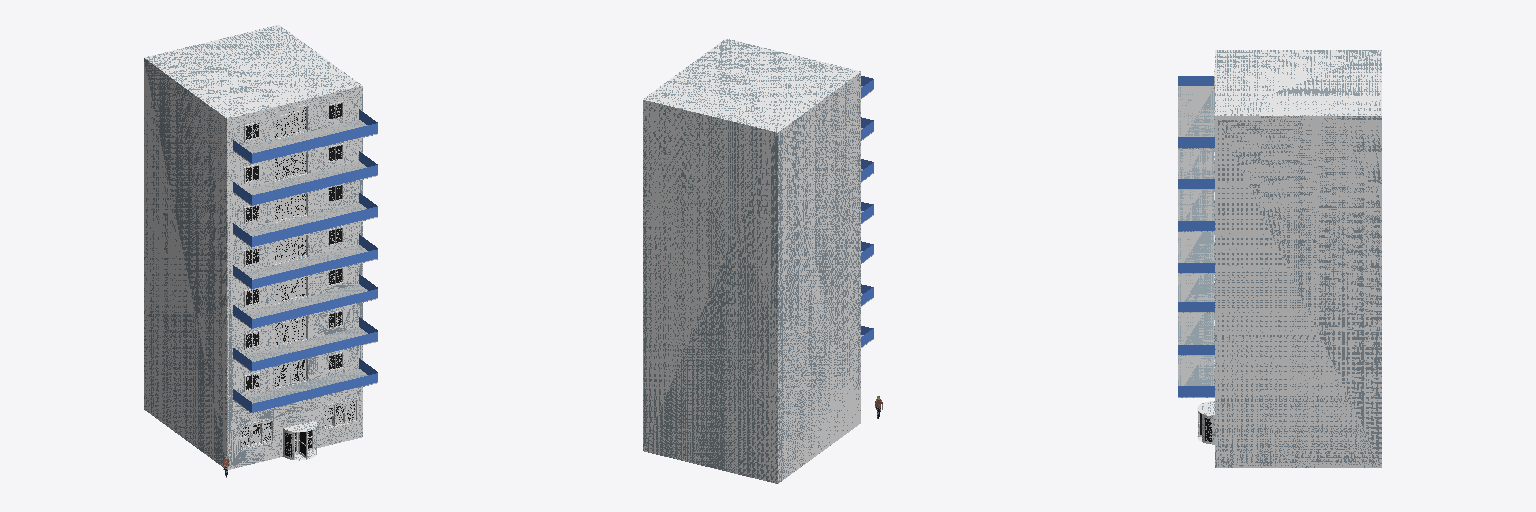
The picture shows the model from 3 angles: view 1: azimuth 30°, elevation 25°; view 2: azimuth 150°, elevation 25°; view 3: azimuth 270°, elevation 25°; orthographic projection.
Visible parts, largest first — view 1: Mesh136 building1 Model, Mesh38 Door_Glass_Double_Sidelights1 building1 Model, Mesh116 Window_3lite_8__6x5__4_1 building1 Model, Mesh123 Window_3lite_8__6x5__4_2 building1 Model, Mesh68 Door_Glass_Double_Sidelights6 building1 Model, Mesh56 Door_Glass_Double_Sidelights4 building1 Model, Mesh44 Door_Glass_Double_Sidelights2 building1 Model, Mesh50 Door_Glass_Double_Sidelights3 building1 Model, Mesh74 Door_Glass_Double_Sidelights7 building1 Model, Mesh31 DoorRevolving1 building1 Model, Mesh62 Door_Glass_Double_Sidelights5 building1 Model; view 2: Mesh136 building1 Model; view 3: Mesh136 building1 Model.
Part boxes in pixels (x1,y1,x2,y2): Mesh136 building1 Model: (144, 25, 377, 469); Mesh38 Door_Glass_Double_Sidelights1 building1 Model: (273, 104, 308, 140); Mesh116 Window_3lite_8__6x5__4_1 building1 Model: (323, 397, 357, 430); Mesh123 Window_3lite_8__6x5__4_2 building1 Model: (240, 418, 273, 450); Mesh68 Door_Glass_Double_Sidelights6 building1 Model: (273, 316, 308, 347); Mesh56 Door_Glass_Double_Sidelights4 building1 Model: (273, 235, 308, 265); Mesh44 Door_Glass_Double_Sidelights2 building1 Model: (273, 151, 308, 181); Mesh50 Door_Glass_Double_Sidelights3 building1 Model: (273, 193, 308, 223); Mesh74 Door_Glass_Double_Sidelights7 building1 Model: (273, 359, 308, 389); Mesh31 DoorRevolving1 building1 Model: (283, 421, 316, 460); Mesh62 Door_Glass_Double_Sidelights5 building1 Model: (273, 276, 308, 304); Mesh136 building1 Model: (643, 39, 873, 483); Mesh136 building1 Model: (1178, 50, 1381, 467).
Bounding box in the file's own units: 11.85 × 26.8 × 14.15.